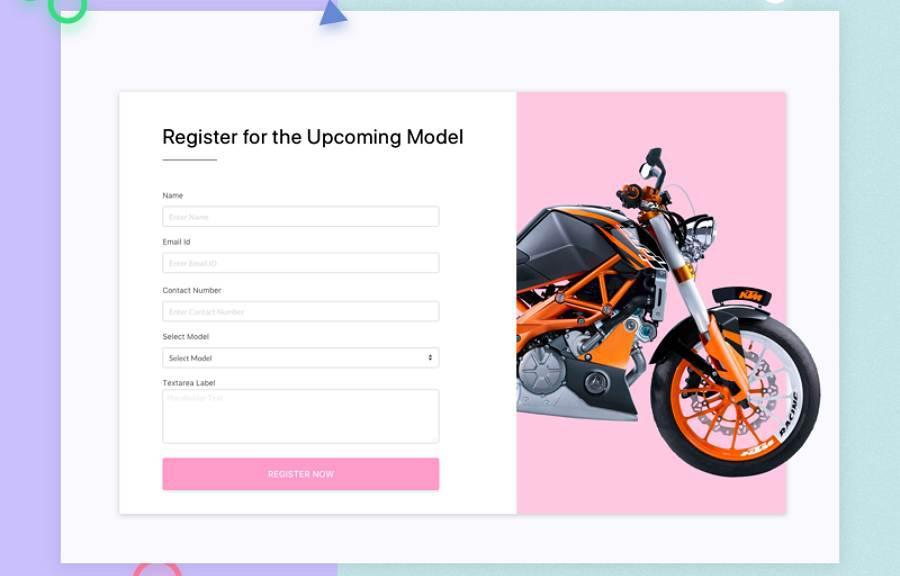button: (161, 458, 441, 492)
dropdown: (161, 347, 443, 370)
input: (163, 300, 443, 324), (163, 252, 442, 276), (162, 206, 442, 229)
label: (163, 287, 224, 295), (163, 379, 217, 388), (163, 333, 212, 341), (163, 237, 192, 248), (163, 192, 185, 201)
